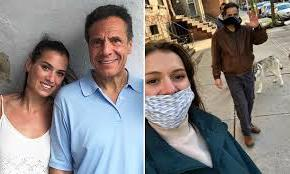mask_weared_incorrect: (145, 67, 193, 129)
with_mask: (224, 9, 240, 28)
without_mask: (90, 26, 125, 76), (31, 58, 64, 94)
